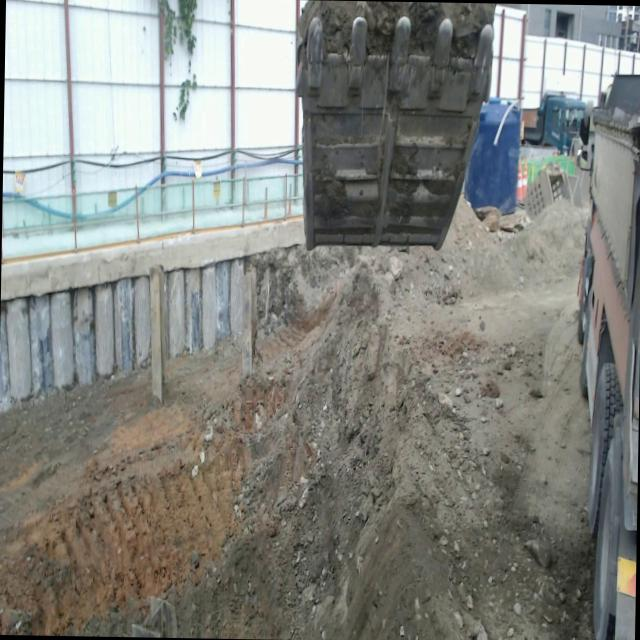cement: (0, 217, 303, 299)
red-sand: (0, 198, 593, 640)
